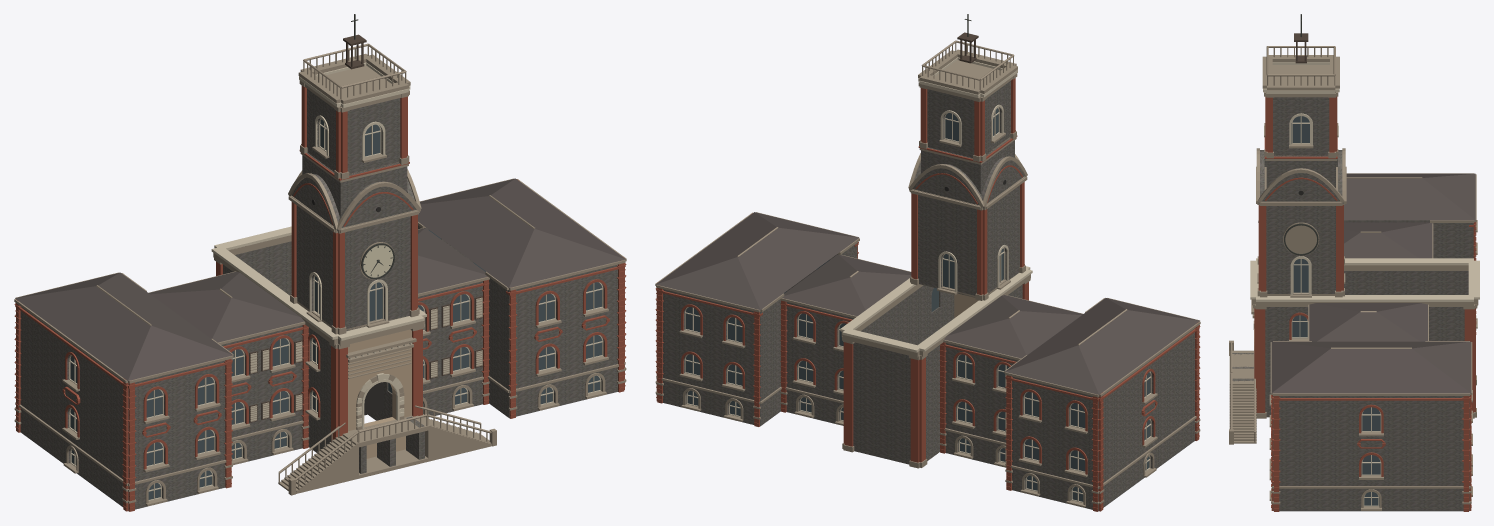
File: xuhui-zikawei-observatory-1908-lod.glb
3 renders of one model, left to right at view 1: azimuth 30°, elevation 25°; view 2: azimuth 150°, elevation 25°; view 3: azimuth 270°, elevation 25°, orthographic. The views are drawn at different scales.
Parts seen in each view (by area): view 1: 徐家汇观象台1908年钟塔与两翼; view 2: 徐家汇观象台1908年钟塔与两翼; view 3: 徐家汇观象台1908年钟塔与两翼.
Boxes of the visible parts, x1,y1,x2,y2 form: 徐家汇观象台1908年钟塔与两翼: (14, 14, 626, 511); 徐家汇观象台1908年钟塔与两翼: (655, 14, 1200, 511); 徐家汇观象台1908年钟塔与两翼: (1229, 14, 1479, 511).
Size of the model in its own units: 47.08 by 38.22 by 22.55.
Materials: 12 (1 with a texture image).
